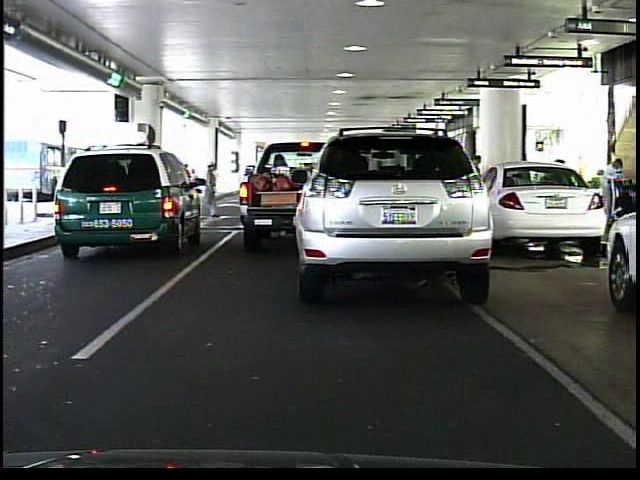person: (201, 157, 223, 227)
